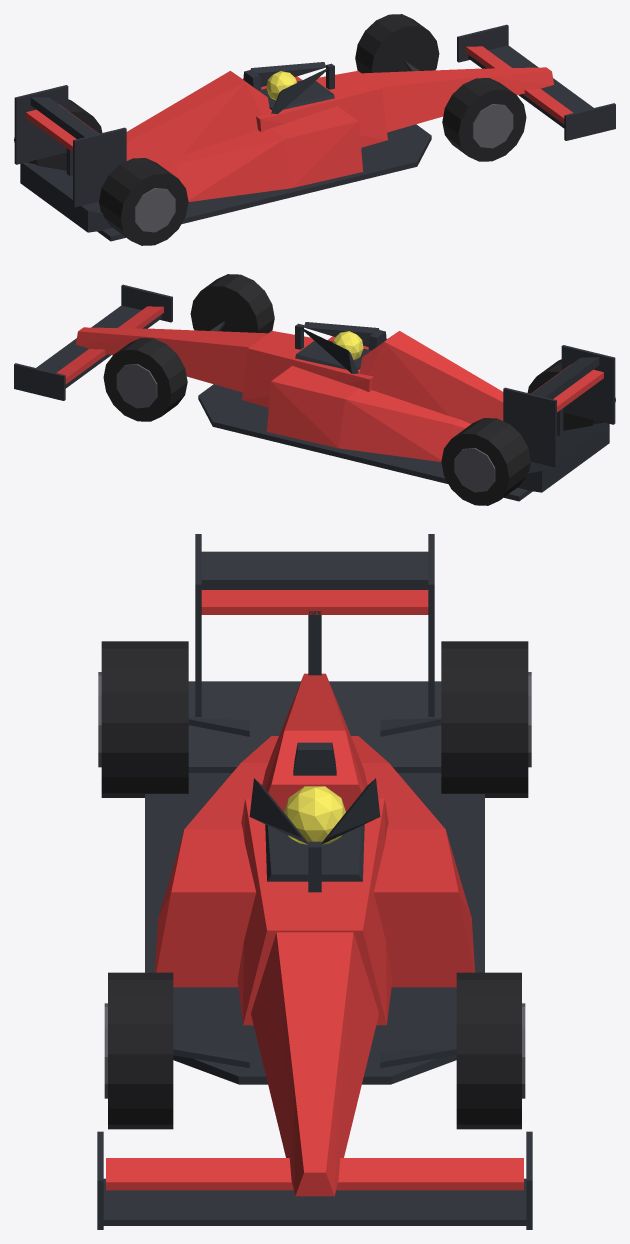
The model's file is car.glb.
The picture shows the model from 3 angles, top to bottom: view 1: azimuth 30°, elevation 25°; view 2: azimuth 150°, elevation 25°; view 3: azimuth 270°, elevation 25°; orthographic projection. The views are drawn at different scales.
Parts seen in each view (by area): view 1: sidepods, engine_cover, nose, floor, wheel_rr, wheel_fr, wheel_fl, tub, rear_endplate_-1, diffuser, rear_endplate_1, front_wing_main (+12 smaller); view 2: sidepods, engine_cover, nose, floor, wheel_rl, wheel_fl, wheel_fr, tub, rear_endplate_1, diffuser, rear_endplate_-1, front_wing_main (+12 smaller); view 3: sidepods, floor, nose, front_wing_main, diffuser, wheel_rl, wheel_rr, tub, front_wing_flap, wheel_fl, wheel_fr, rear_wing_flap (+11 smaller).
Part boxes in pixels (box(x1,y1,x2,y2)): sidepods: box(159, 76, 363, 201); engine_cover: box(126, 71, 270, 163); nose: box(362, 67, 553, 132); floor: box(97, 124, 431, 241); wheel_rr: box(99, 158, 188, 245); wheel_fr: box(442, 78, 526, 161); wheel_fl: box(355, 14, 439, 73); tub: box(256, 71, 387, 147); rear_endplate_-1: box(73, 127, 126, 207); diffuser: box(20, 162, 111, 232); rear_endplate_1: box(14, 85, 68, 164); front_wing_main: box(468, 45, 593, 128); sidepods: box(266, 336, 470, 461); engine_cover: box(359, 331, 503, 423); nose: box(76, 327, 267, 392); floor: box(198, 384, 532, 501); wheel_rl: box(441, 418, 530, 505); wheel_fl: box(103, 338, 187, 421); wheel_fr: box(190, 274, 274, 333); tub: box(242, 331, 373, 407); rear_endplate_1: box(503, 387, 556, 467); diffuser: box(518, 422, 609, 492); rear_endplate_-1: box(561, 345, 615, 424); front_wing_main: box(36, 305, 161, 388); sidepods: box(154, 736, 475, 987); floor: box(145, 773, 484, 1084); nose: box(251, 932, 378, 1196); front_wing_main: box(101, 1178, 527, 1225); diffuser: box(188, 681, 441, 772); wheel_rl: box(441, 641, 528, 797); wheel_rr: box(101, 641, 188, 797); tub: box(237, 798, 392, 1025); front_wing_flap: box(106, 1158, 523, 1190); wheel_fl: box(456, 972, 521, 1129); wheel_fr: box(108, 972, 173, 1129); rear_wing_flap: box(201, 551, 428, 589).
Size of the model in its own units: 29.36 by 5.46 by 10.71.
